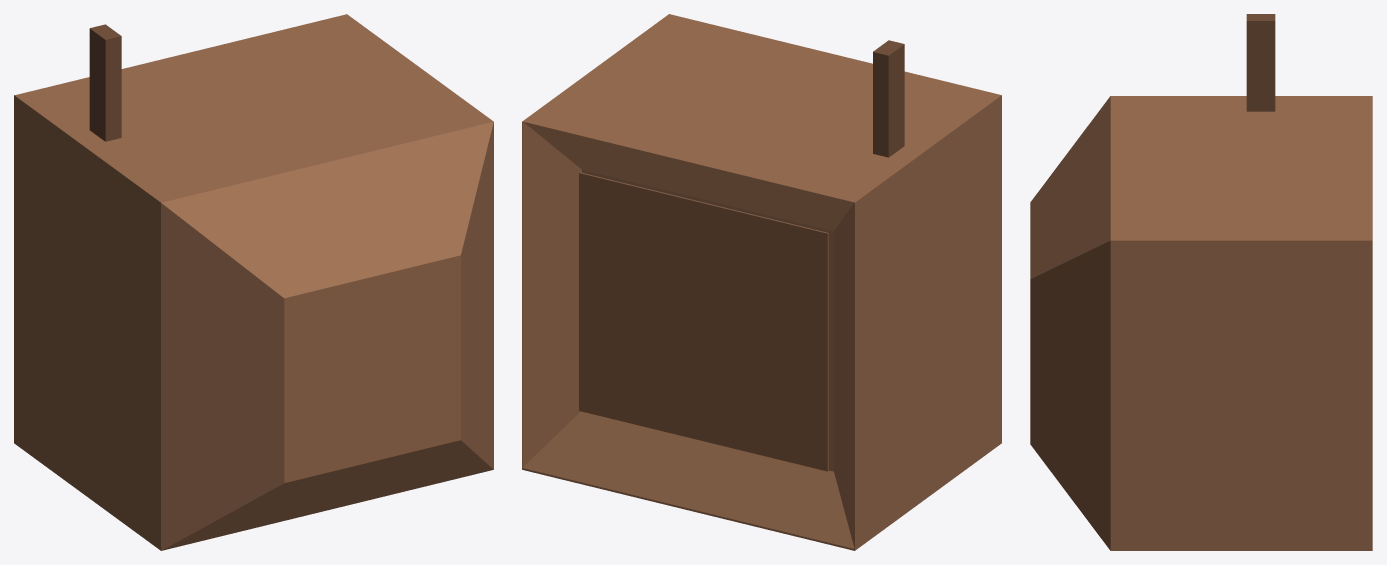
The picture shows the model from 3 angles, left to right: view 1: azimuth 30°, elevation 25°; view 2: azimuth 150°, elevation 25°; view 3: azimuth 270°, elevation 25°; orthographic projection. The views are drawn at different scales.
Visible parts, largest first — view 1: outer, upright; view 2: outer, inset_panel, upright; view 3: outer, upright.
Part boxes in pixels (x1,y1,x2,y2): outer: [14, 14, 493, 550]; upright: [89, 24, 121, 141]; outer: [522, 14, 1001, 550]; inset_panel: [579, 172, 828, 471]; upright: [873, 40, 904, 157]; outer: [1030, 96, 1372, 550]; upright: [1246, 14, 1275, 111].
Bounding box in the file's own units: 0.5415 × 0.7 × 0.5415.
